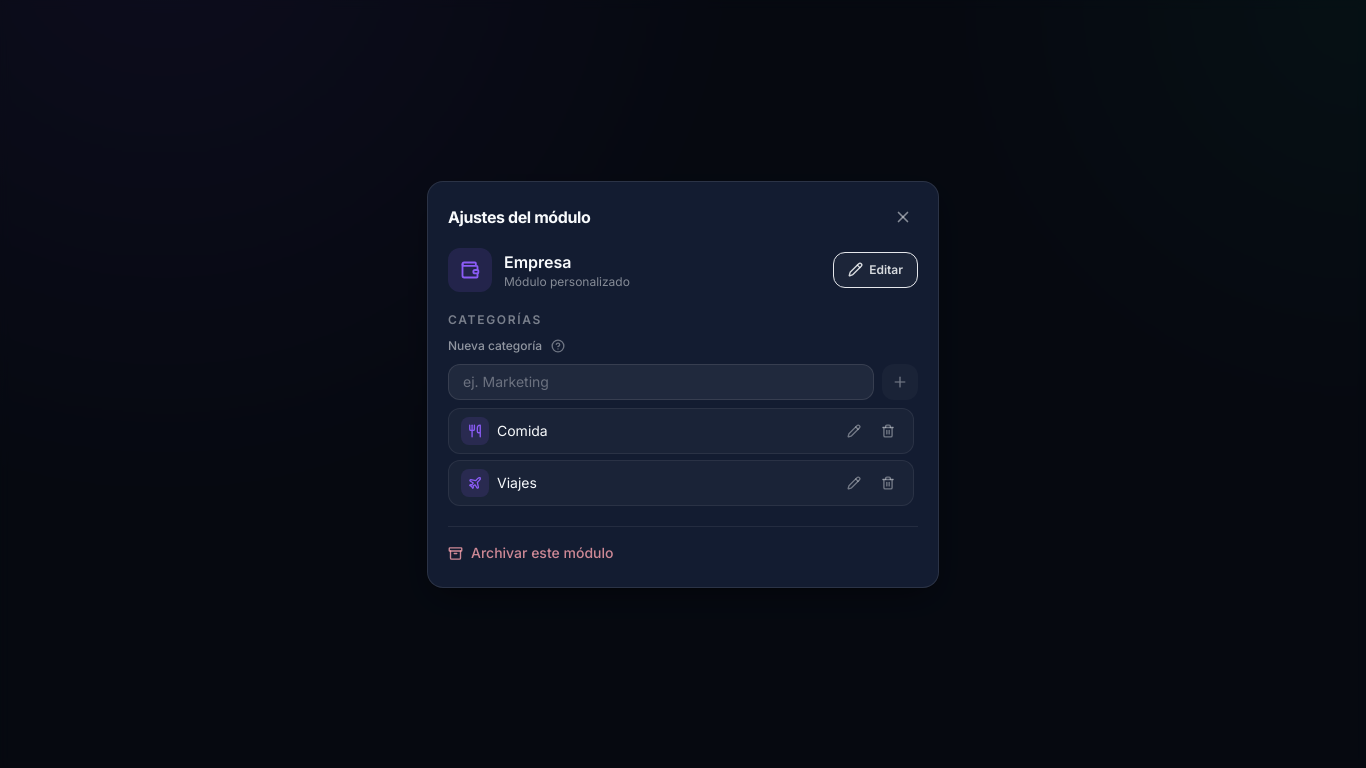
Scenario: Módulos: alta y errores 409 › archivar un módulo con 409 muestra el motivo y no lo da por archivado
Click the button "Archivar este módulo" at (531, 553), box [448,543,614,563]
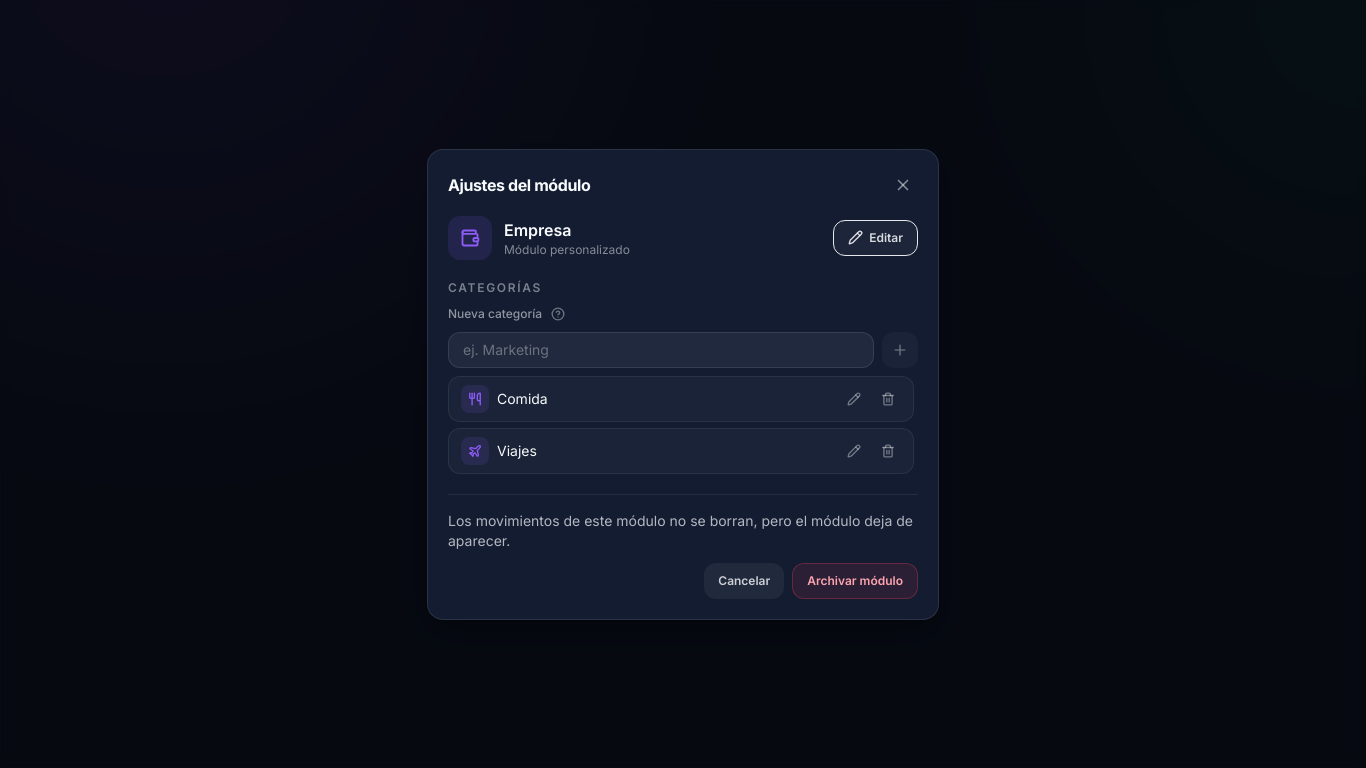
Click the button "Archivar módulo" at (855, 580), box [792,562,918,598]
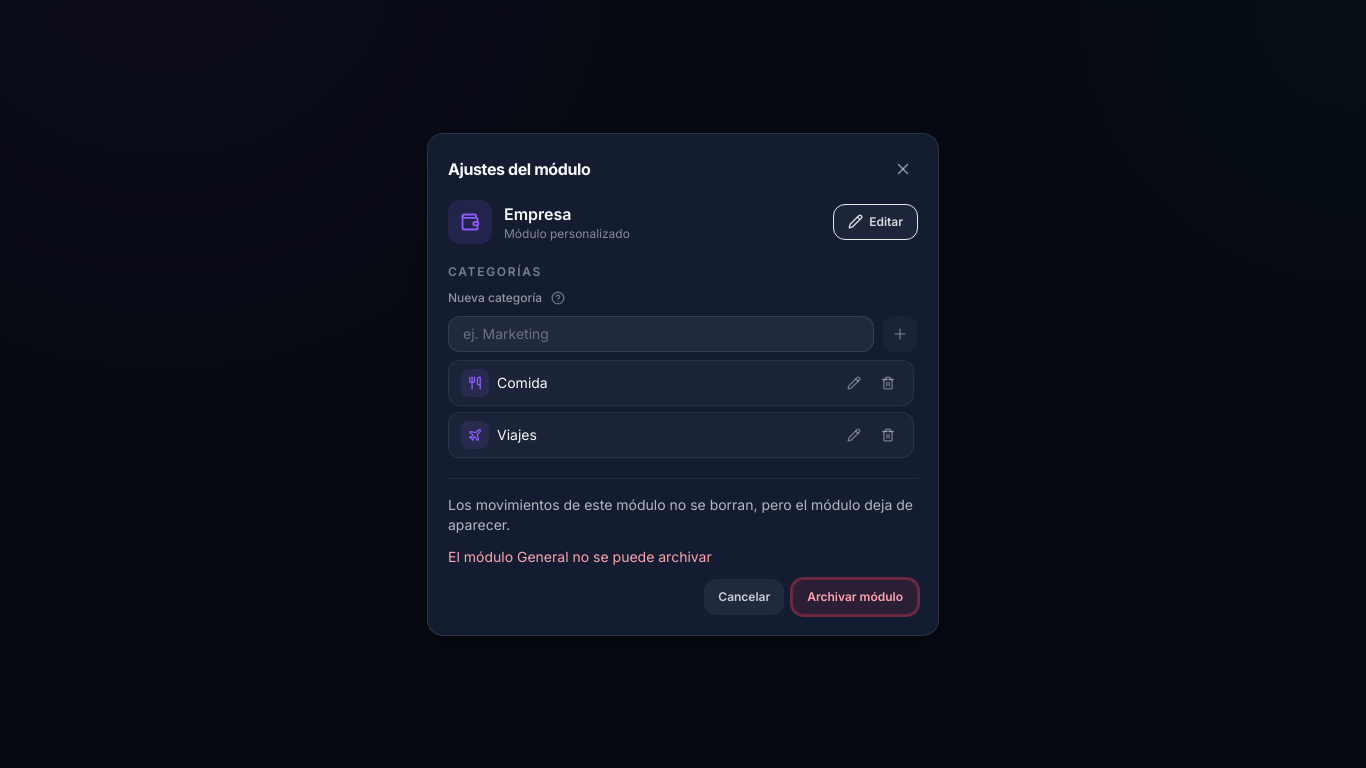
Expected: the message reads "El módulo General no se puede archivar", [448,548,712,564]
